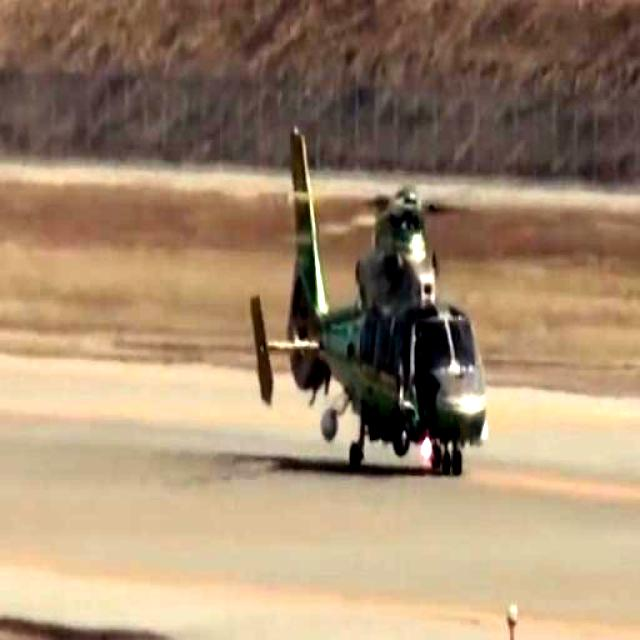drone: (248, 122, 494, 478)
